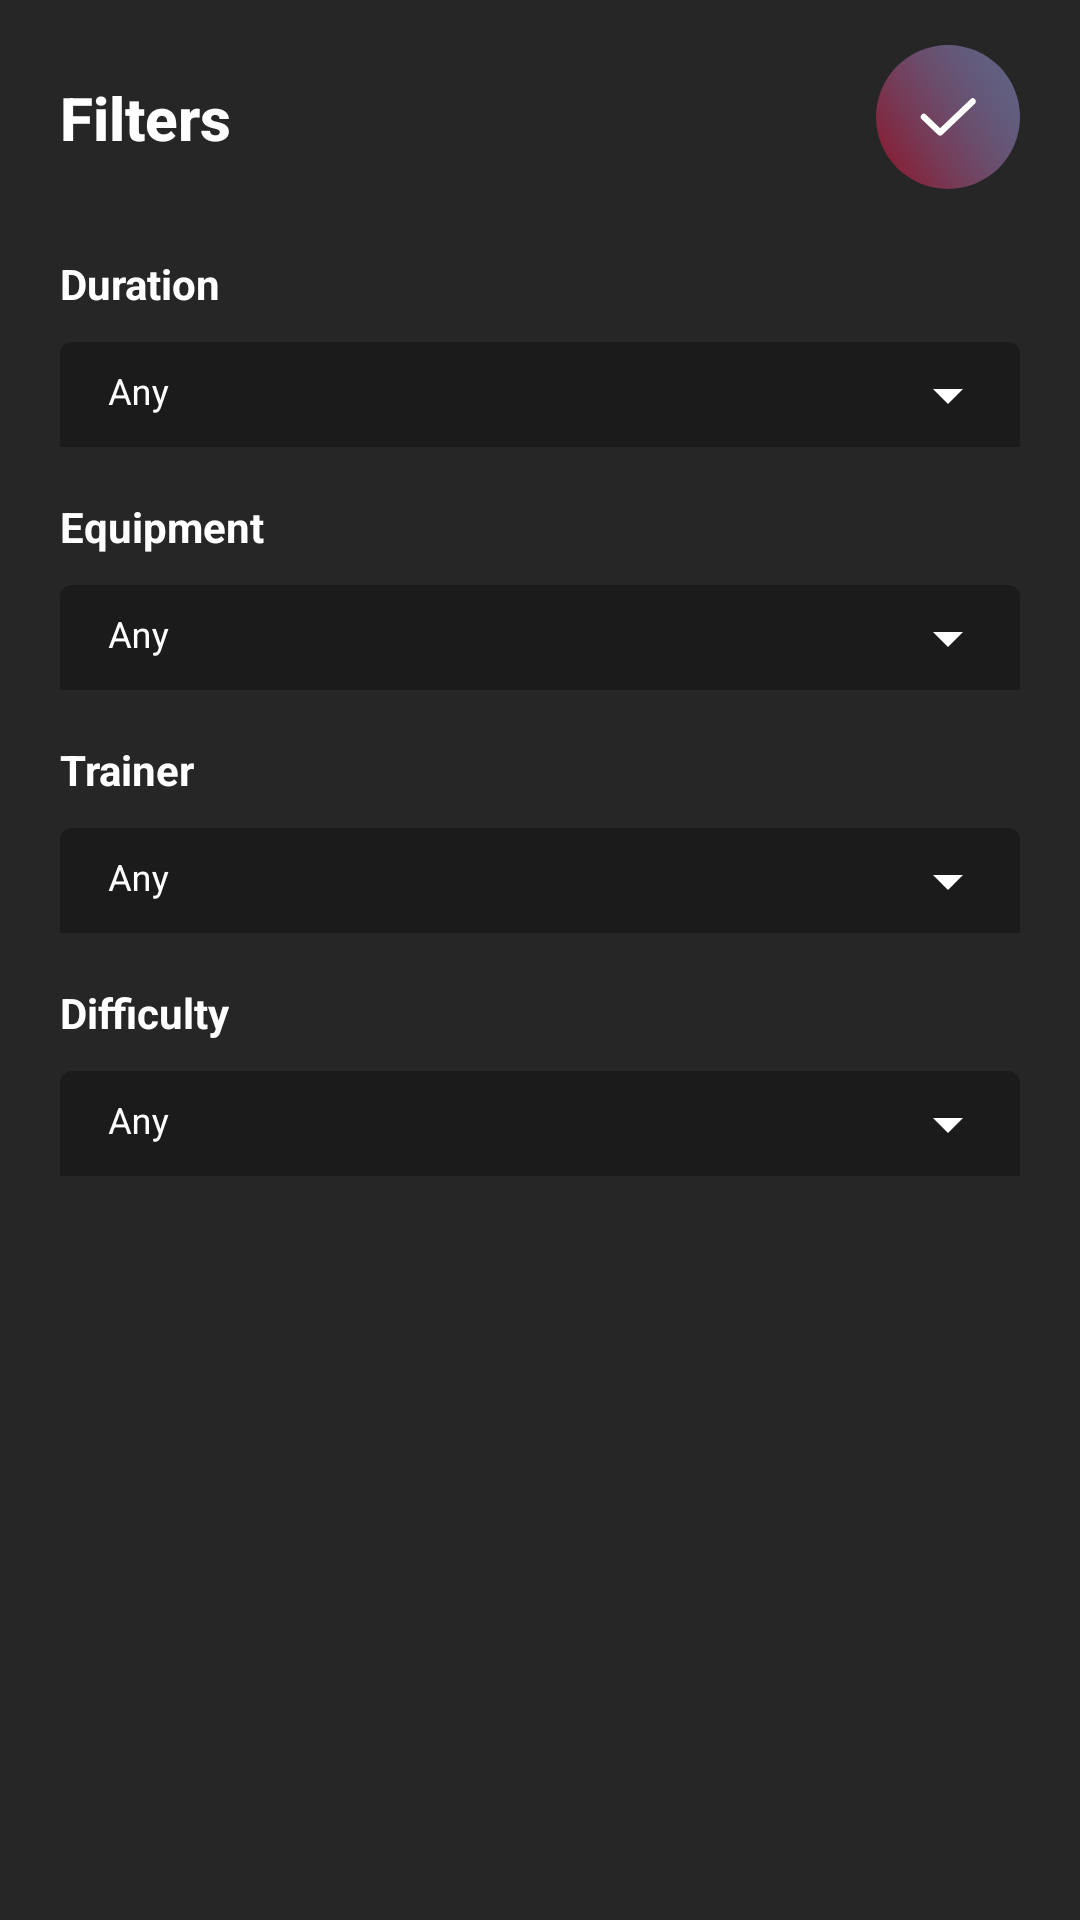

Locate icon controls on the screen. Image size 1080px×1920px, boxes as (left=x1, top=y1, right=x2, bottom=y2).
Filter Check: (left=876, top=45, right=1020, bottom=189)
